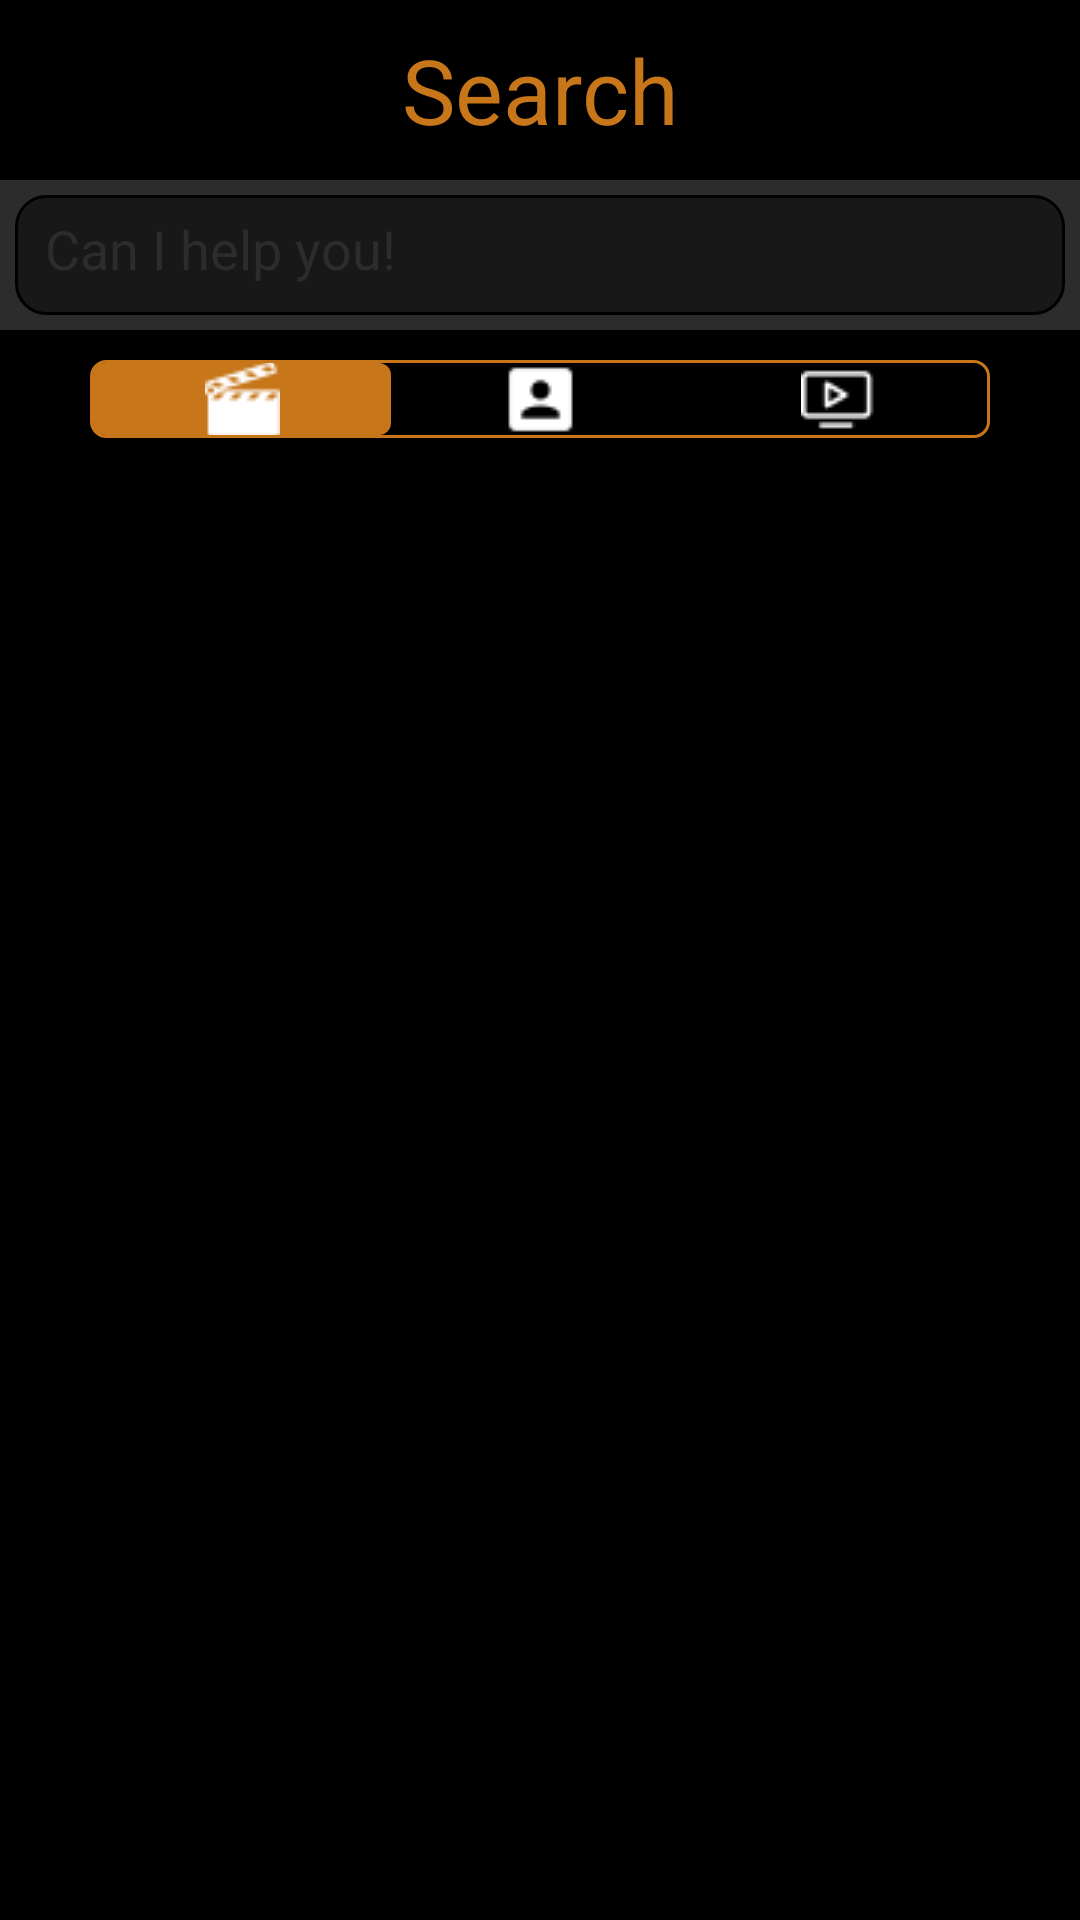

Icons on this 1080 × 1920 Android screen, each with its box as (left=x1, top=y1, right=x2, bottom=y2):
contacts: (left=508, top=367, right=573, bottom=432)
tv show: (left=801, top=370, right=874, bottom=429)
